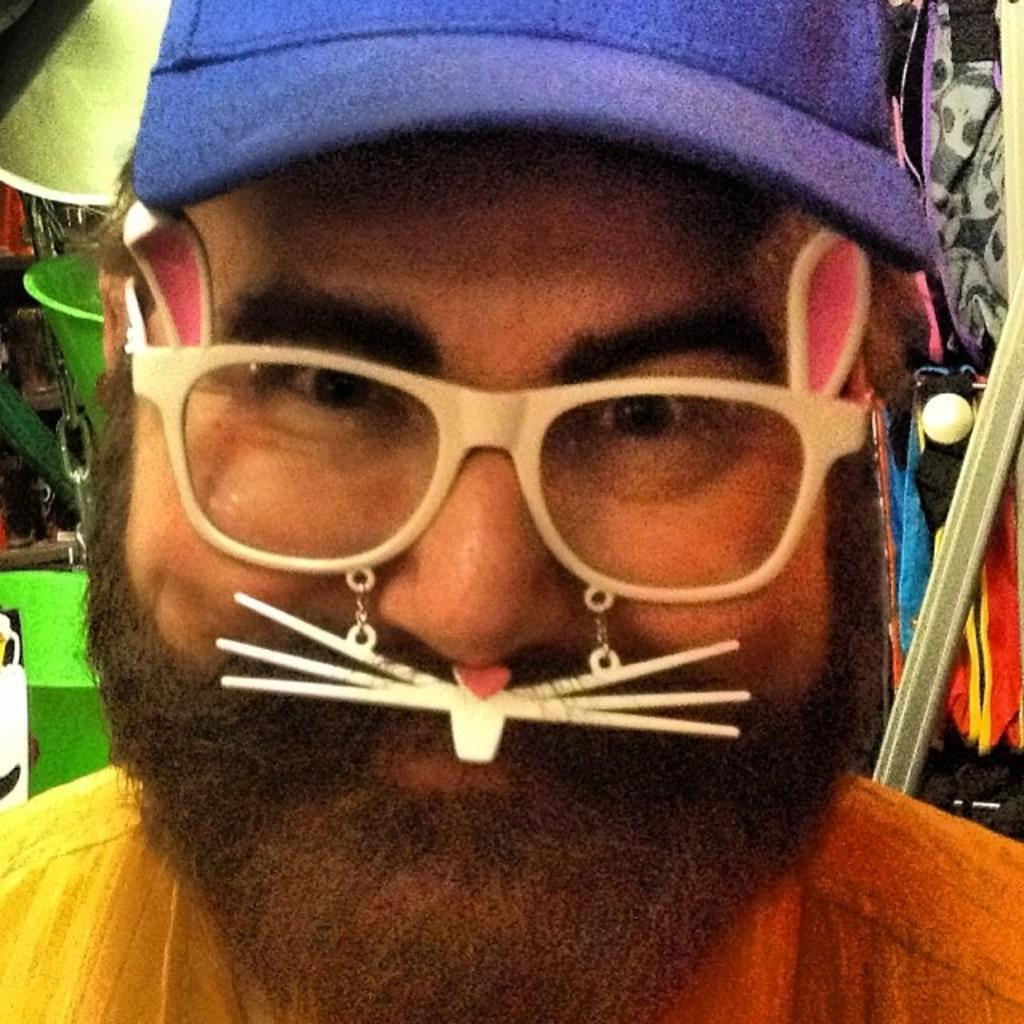Hat: (128, 0, 944, 278)
